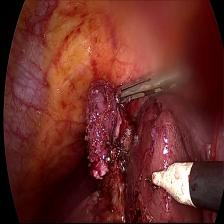Grasper: (114, 47, 188, 112)
Hook: (142, 153, 194, 219)
